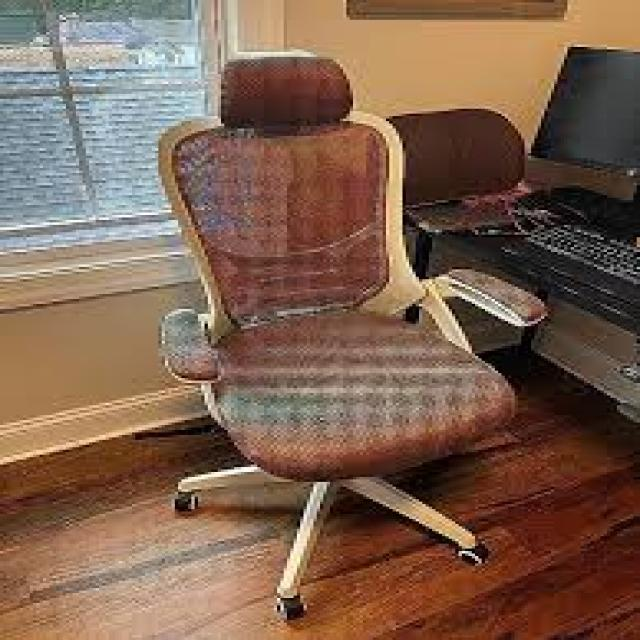chair: (75, 33, 556, 632)
